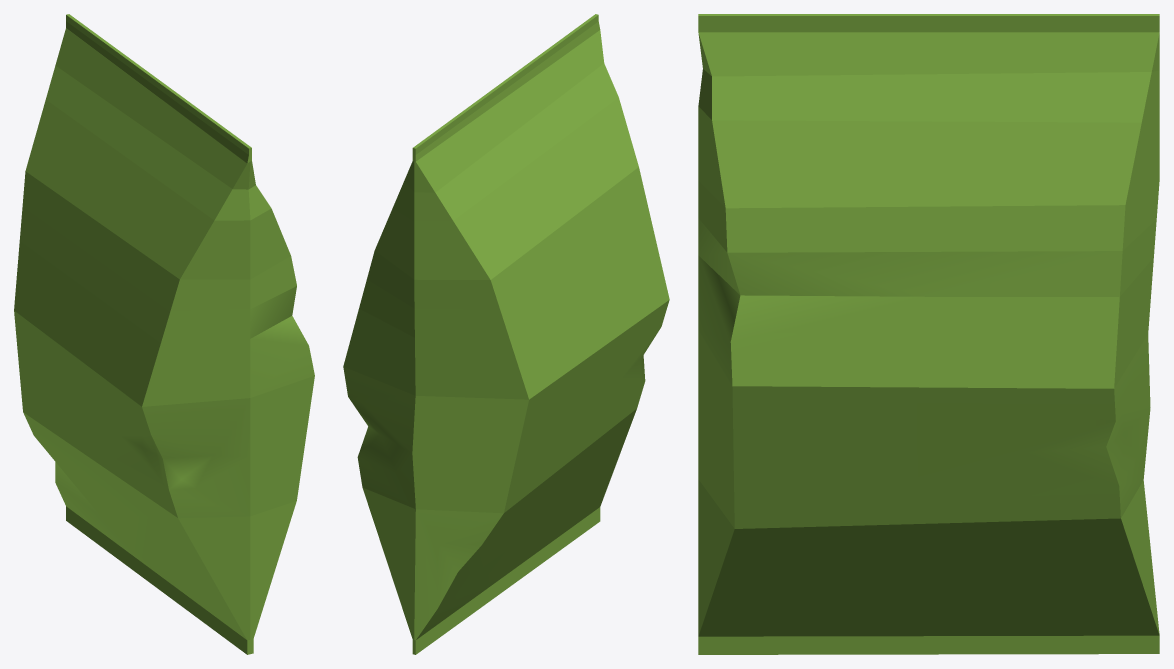
File: GreenWrapper.fbx
The picture shows the model from 3 angles, left to right: view 1: azimuth 30°, elevation 25°; view 2: azimuth 150°, elevation 25°; view 3: azimuth 270°, elevation 25°; orthographic projection. The views are drawn at different scales.
Parts seen in each view (by area): view 1: Junkfood; view 2: Junkfood; view 3: Junkfood.
Part boxes in pixels (box(x1,y1,x2,y2)): Junkfood: box(14, 14, 314, 654); Junkfood: box(343, 14, 669, 654); Junkfood: box(698, 14, 1159, 654).
Size of the model in its own units: 0.8384 by 2.26 by 1.48.
